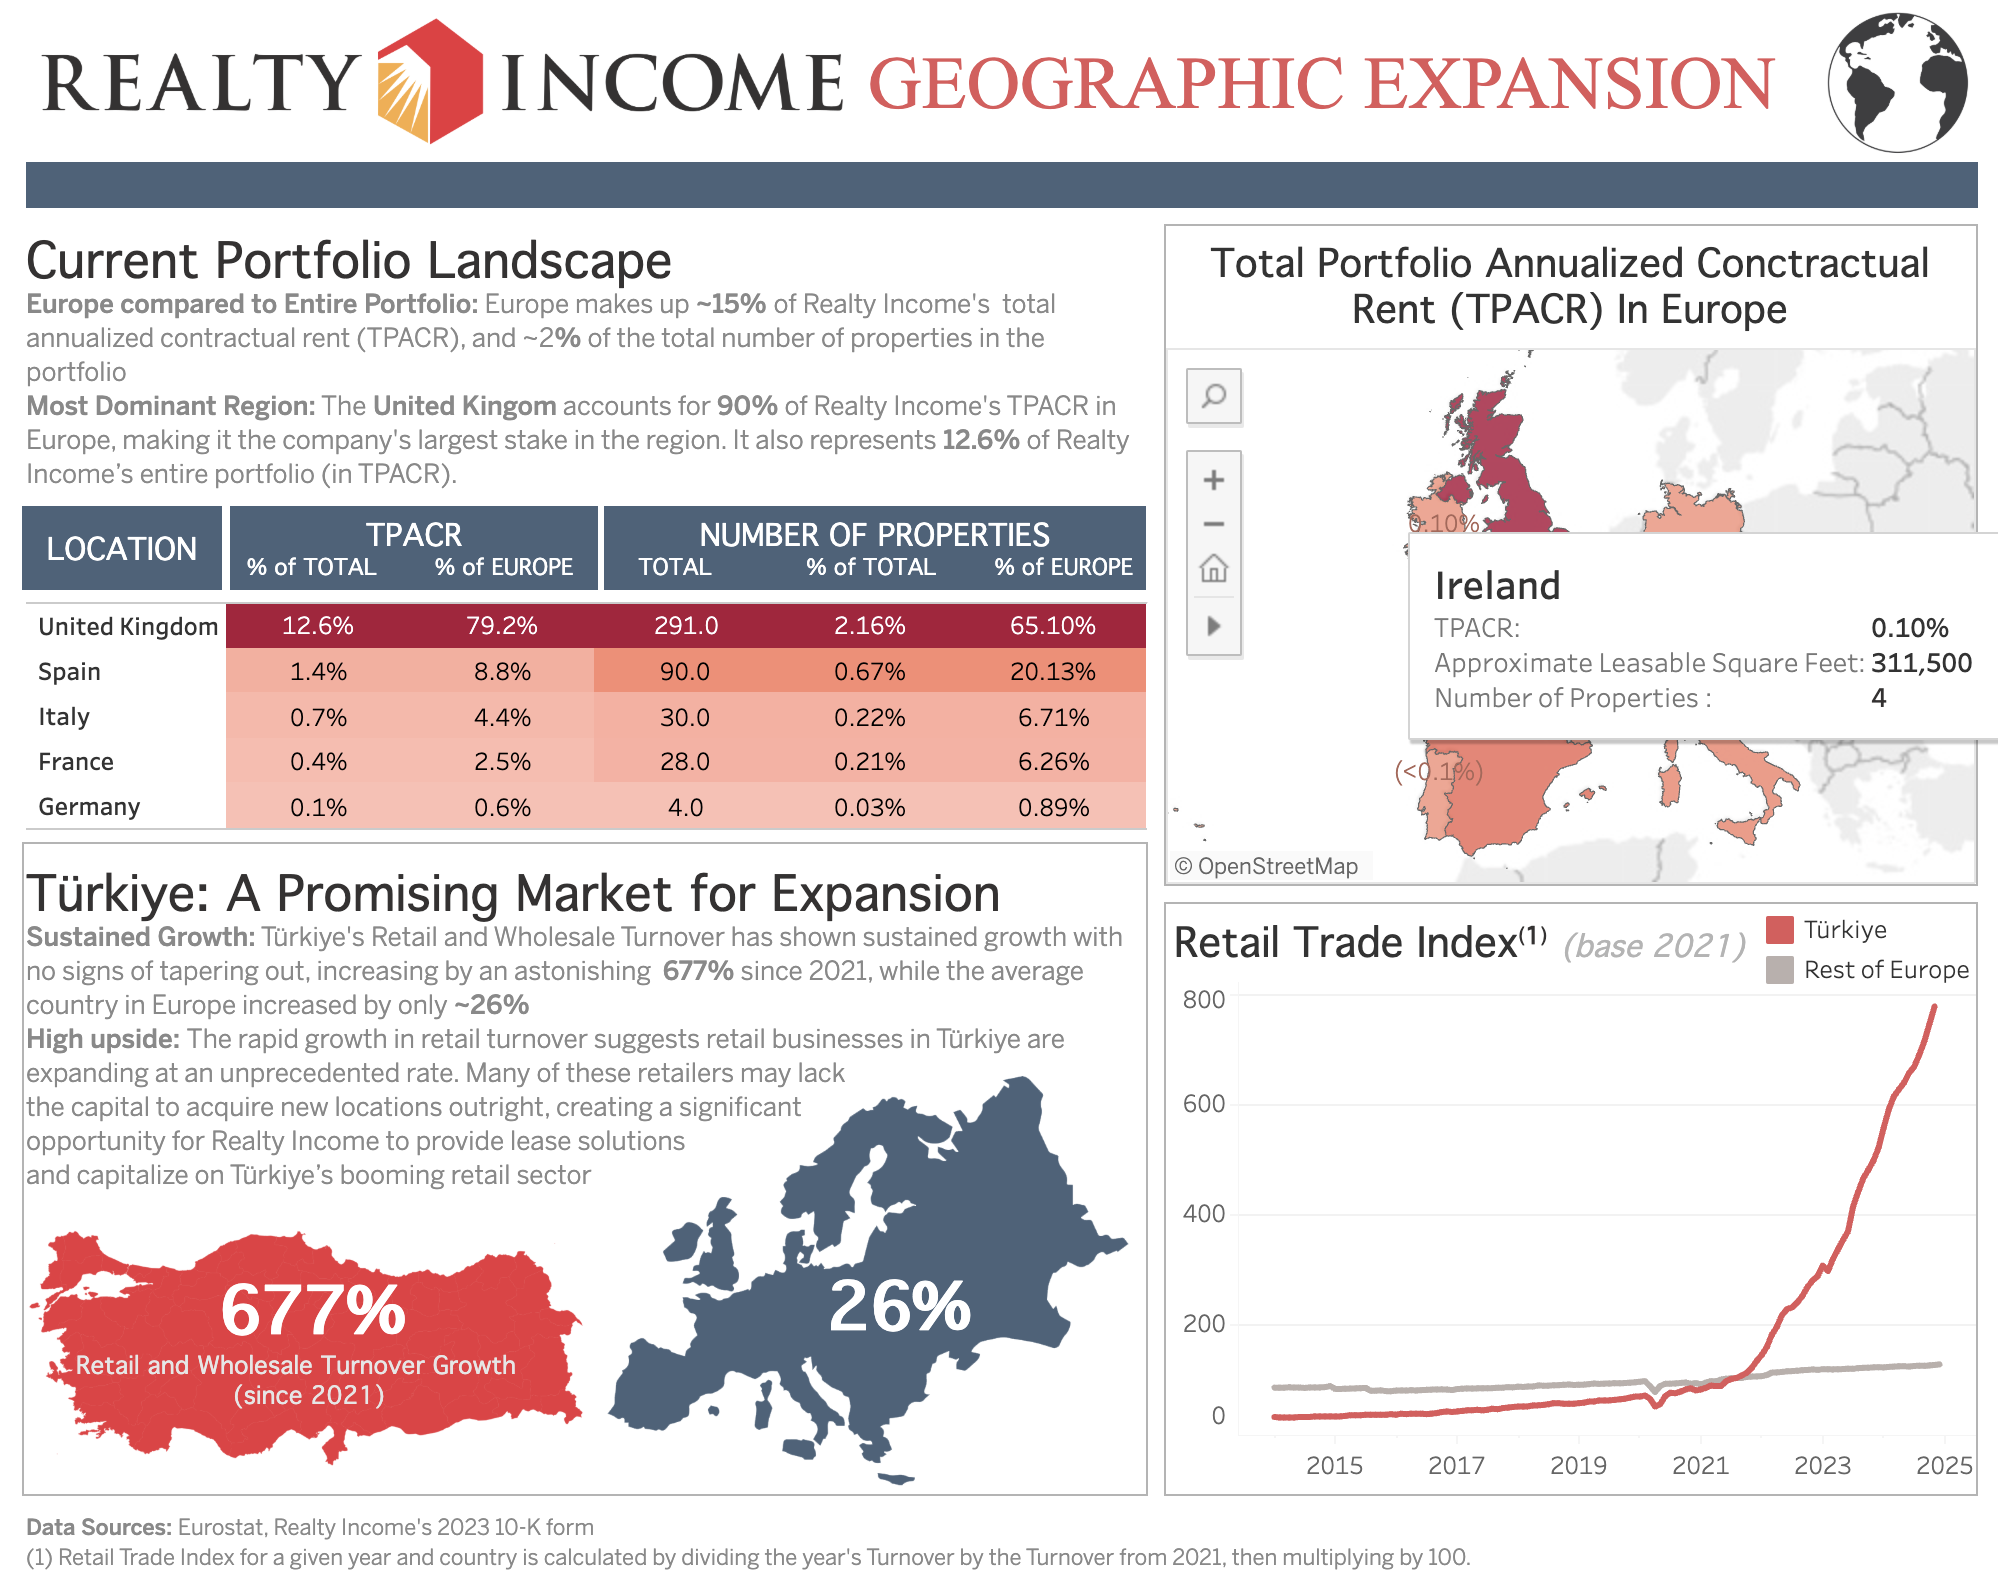

The page's visual inventory and layout, read from the dashboard file:
{"tool":"tableau","page":{"name":"geo_diversification ","canvas":[1000,800],"ordinal":0},"visuals":[{"type":"blank","box":[8,8,421,72.4]},{"type":"text","box":[429,8,563,72.4]},{"type":"image","param":"/var/folders/vr/7j3r04fd5sd0mn53h_jrc5q00000gn/T/tableau-temp/11p6qii1nmdkqf1f52","box":[901,8,94,72]},{"type":"image","param":"/Users/connerkhudaverdyan/Downloads/Realty_Income_logo.svg.png","box":[18,9,474,68]},{"type":"blank","box":[8,80.4,984,30.5]},{"type":"text","box":[8,110.9,569,142.9]},{"type":"worksheet","title":"Europe (2)","mark":"Automatic","box":[577,110.9,415,339.1]},{"type":"text","box":[8,253.8,569,45.7]},{"type":"text","box":[10,256,100,42]},{"type":"text","box":[114,256,184,42]},{"type":"text","box":[301,256,271,42]},{"type":"worksheet","title":"europe_vs_total","mark":"Square","rows":["Location"],"box":[8,299.6,569,122.4]},{"type":"text","box":[8,422,569,188]},{"type":"blank","box":[10,424,563,327]},{"type":"worksheet","title":"rti","mark":"Line","rows":["Retail_Trade_Index"],"cols":["Time"],"box":[577,450,415,305]},{"type":"image","param":"/Users/connerkhudaverdyan/Downloads/Europe-PNG-blue.png","box":[293,486,280,317]},{"type":"worksheet","title":"rest of europe","mark":"Square","box":[321,571,249,175]},{"type":"image","param":"/Users/connerkhudaverdyan/Downloads/turkeymap (3).png","box":[0,601,304,152]},{"type":"blank","box":[8,610,569,145]},{"type":"text","box":[8,755,984,37]}]}

Visuals, with their boxes in screenshot pixels (x1, y1, x2, y2), scaled from the page's 1000x800 canvas onto the 1998x1578 screenshot:
blank: Rect(16, 16, 857, 159)
text: Rect(857, 16, 1982, 159)
image: Rect(1800, 16, 1988, 158)
image: Rect(36, 18, 983, 152)
blank: Rect(16, 159, 1982, 219)
text: Rect(16, 219, 1153, 501)
"Europe (2)" worksheet: Rect(1153, 219, 1982, 888)
text: Rect(16, 501, 1153, 591)
text: Rect(20, 505, 220, 588)
text: Rect(228, 505, 595, 588)
text: Rect(601, 505, 1143, 588)
"europe_vs_total" worksheet (Square marks): Rect(16, 591, 1153, 832)
text: Rect(16, 832, 1153, 1203)
blank: Rect(20, 836, 1145, 1481)
"rti" worksheet (Line marks): Rect(1153, 888, 1982, 1489)
image: Rect(585, 959, 1145, 1577)
"rest of europe" worksheet (Square marks): Rect(641, 1126, 1139, 1471)
image: Rect(0, 1185, 607, 1485)
blank: Rect(16, 1203, 1153, 1489)
text: Rect(16, 1489, 1982, 1562)
